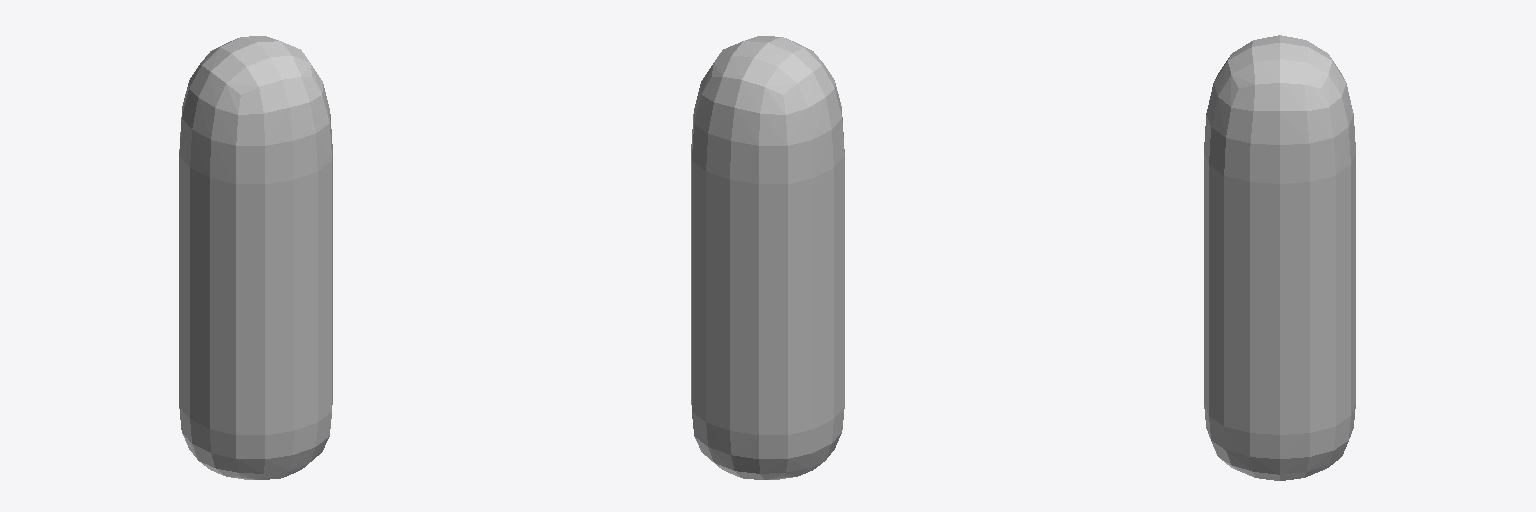
File: leg.obj
The picture shows the model from 3 angles: view 1: azimuth 30°, elevation 25°; view 2: azimuth 150°, elevation 25°; view 3: azimuth 270°, elevation 25°; orthographic projection.
Parts seen in each view (by area): view 1: Cube.004; view 2: Cube.004; view 3: Cube.004.
Part boxes in pixels (x1,y1,x2,y2): Cube.004: (179,36,332,479); Cube.004: (691,36,844,479); Cube.004: (1204,35,1355,480).
Size of the model in its own units: 0.5625 by 1.74 by 0.5625.